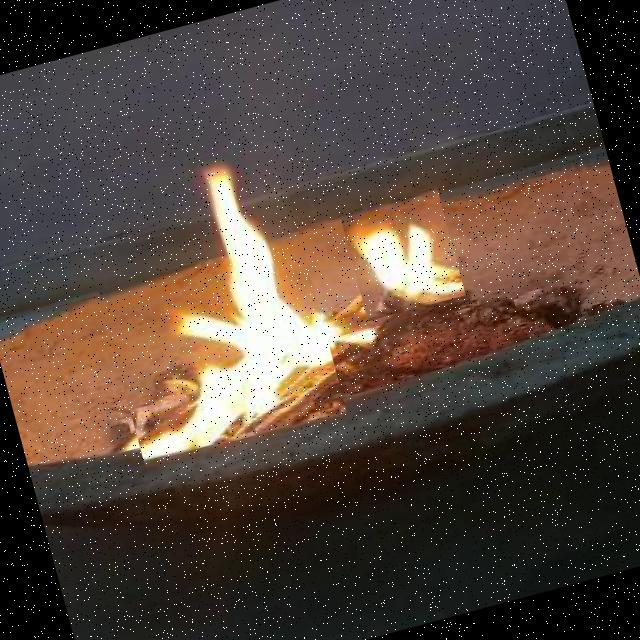fire: (71, 138, 348, 469), (338, 186, 466, 320)
